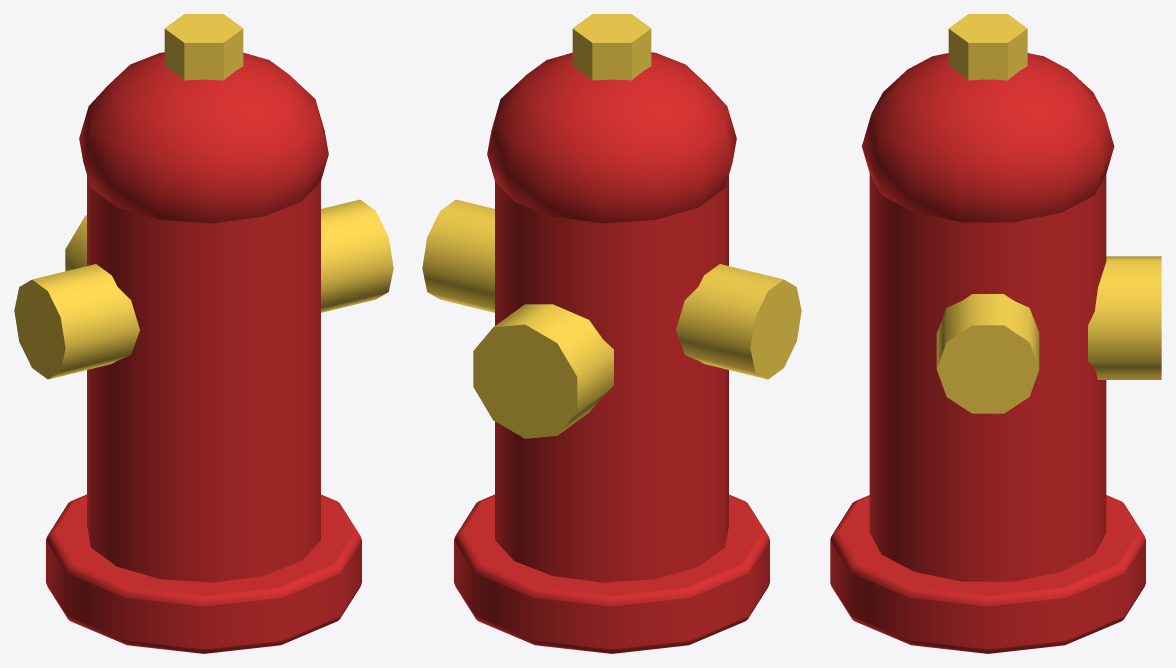
File: hydrant.glb
The picture shows the model from 3 angles, left to right: view 1: azimuth 30°, elevation 25°; view 2: azimuth 150°, elevation 25°; view 3: azimuth 270°, elevation 25°; orthographic projection.
Parts seen in each view (by area): view 1: hydrant; view 2: hydrant; view 3: hydrant.
Boxes of the visible parts, left/top/right/bottom form: hydrant: left=14, top=14, right=393, bottom=653; hydrant: left=422, top=14, right=801, bottom=653; hydrant: left=830, top=14, right=1161, bottom=653.
Size of the model in its own units: 0.48 by 0.785 by 0.42.
